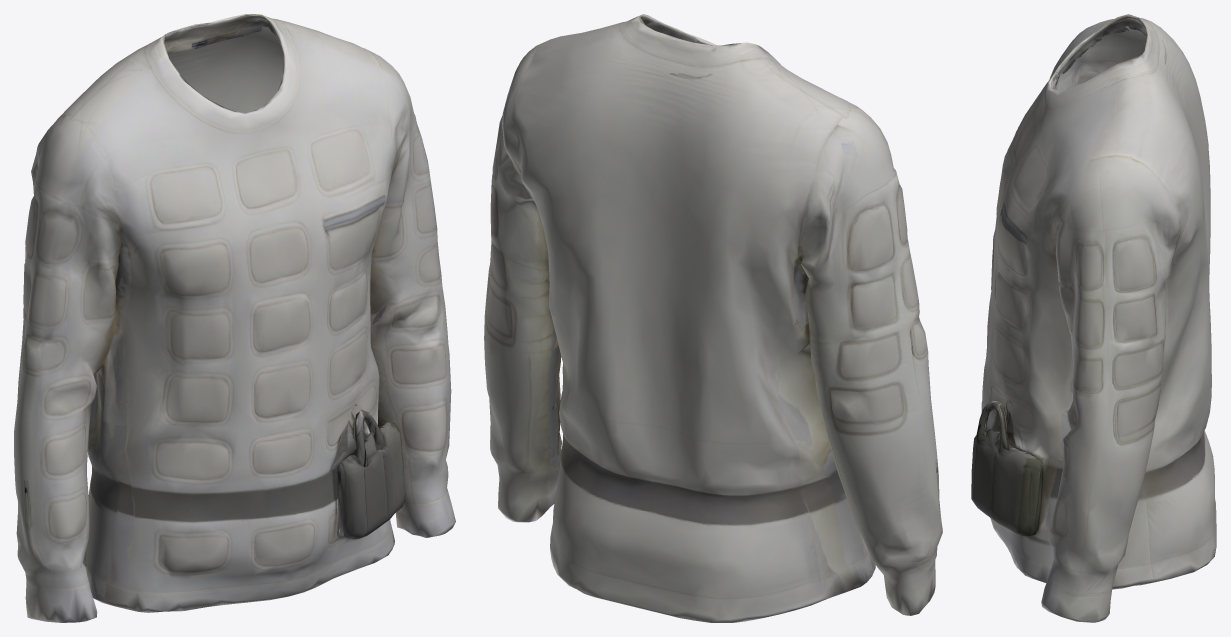
The model's file is Coolshield_0611194442_texture.glb.
3 views of the same model, side by side, from view 1: azimuth 30°, elevation 25°; view 2: azimuth 150°, elevation 25°; view 3: azimuth 270°, elevation 25° (orthographic). The views are drawn at different scales.
Size of the model in its own units: 1.68 by 1.99 by 0.8899.
Materials: 1 (1 with a texture image).
